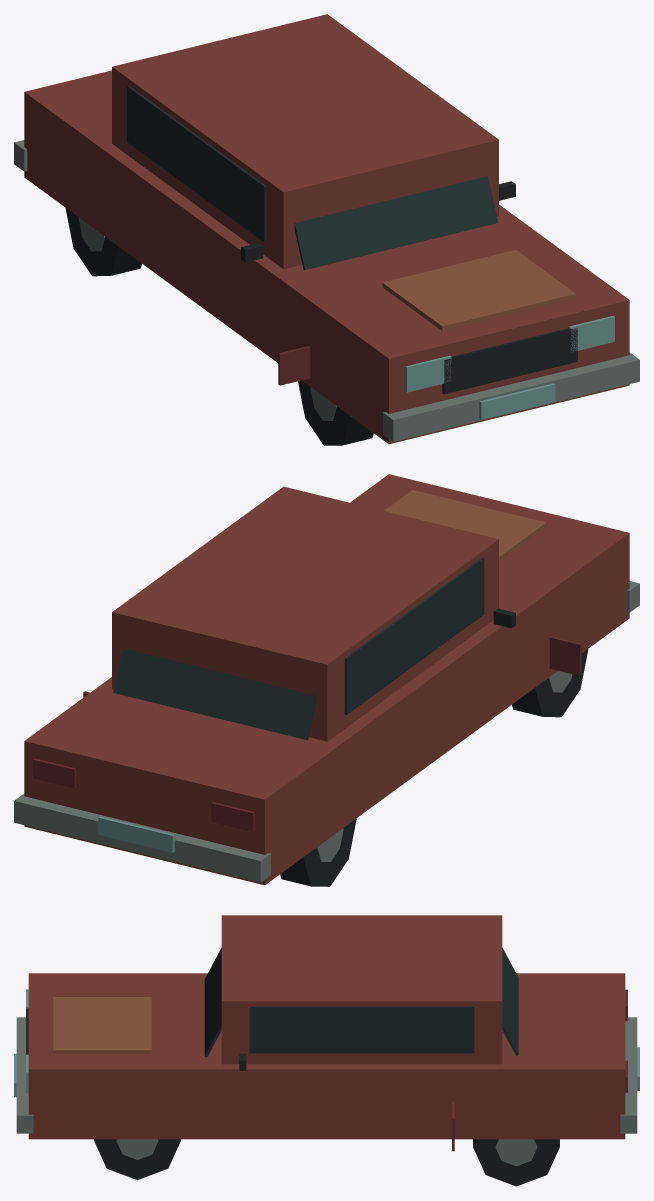
Rendered from masina.glb.
3 renders of one model, top to bottom at view 1: azimuth 30°, elevation 25°; view 2: azimuth 150°, elevation 25°; view 3: azimuth 270°, elevation 25°, orthographic. The views are drawn at different scales.
Parts seen in each view (by area): view 1: Masina; view 2: Masina; view 3: Masina.
Boxes of the visible parts, left/top/right/bottom form: Masina: left=14, top=14, right=639, bottom=445; Masina: left=14, top=474, right=639, bottom=886; Masina: left=14, top=915, right=639, bottom=1186.
Bounding box in the file's own units: 2.13 × 1.42 × 4.46.
